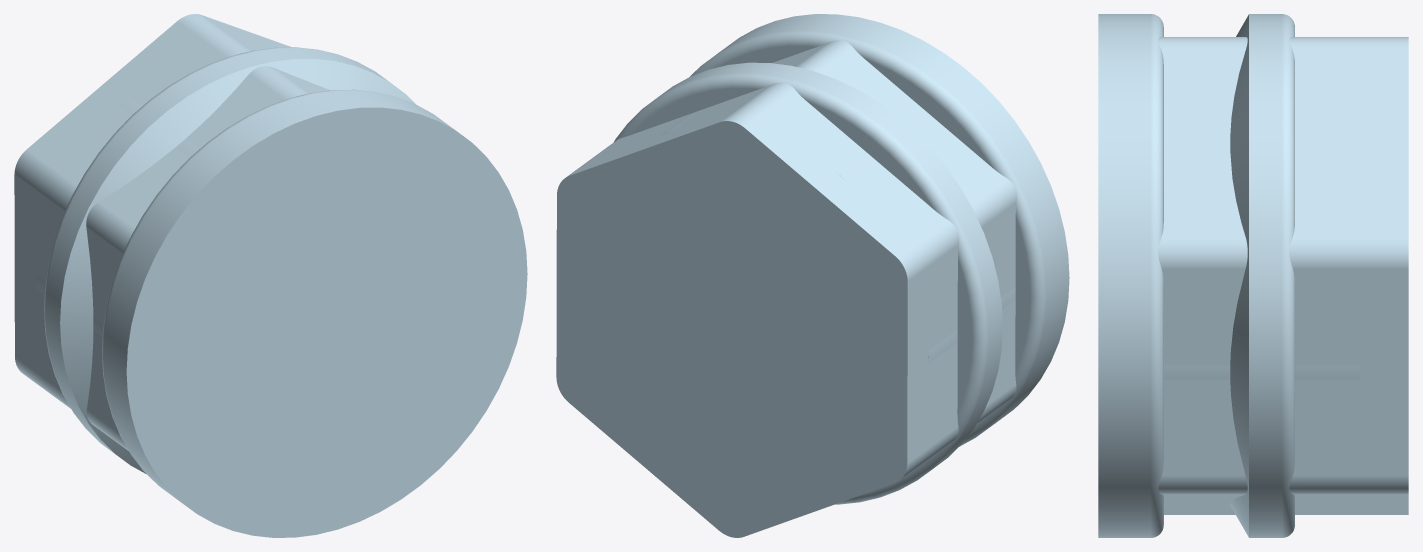
The model's file is PilariHattu2.gltf.
3 renders of one model, left to right at view 1: azimuth 30°, elevation 25°; view 2: azimuth 150°, elevation 25°; view 3: azimuth 270°, elevation 25°, orthographic. The views are drawn at different scales.
Visible parts, largest first — view 1: Part 1; view 2: Part 1; view 3: Part 1.
Boxes of the visible parts, x1,y1,x2,y2 form: Part 1: (14,14,527,537); Part 1: (556,14,1069,537); Part 1: (1098,14,1408,537).
Size of the model in its own units: 0.08 by 0.0799 by 0.0473.
